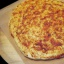pizza: (9, 1, 64, 58)
